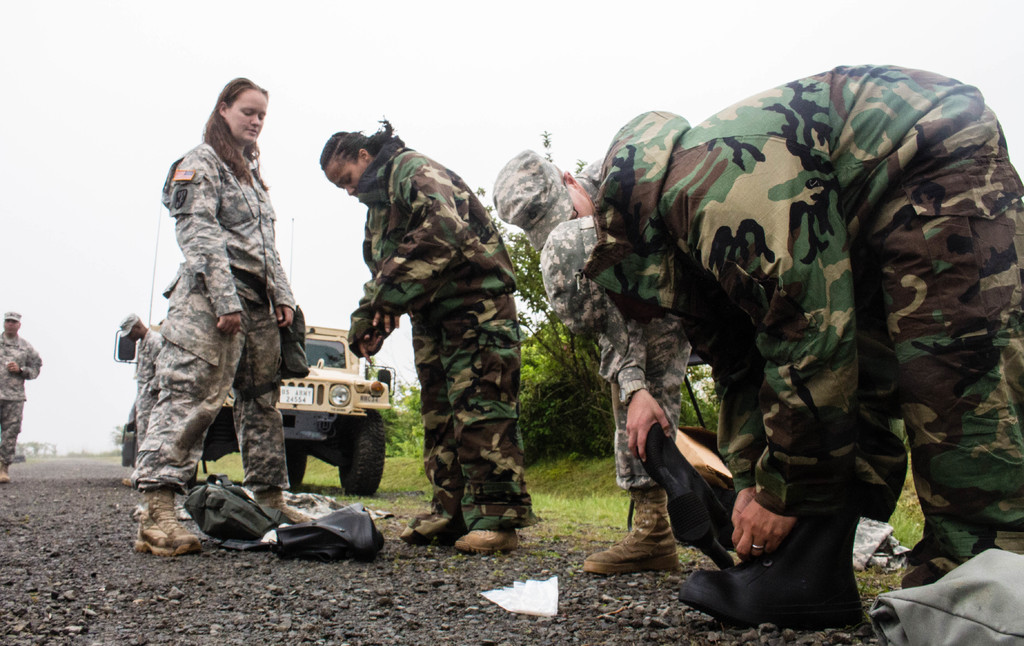Person: (0, 62, 1023, 628)
